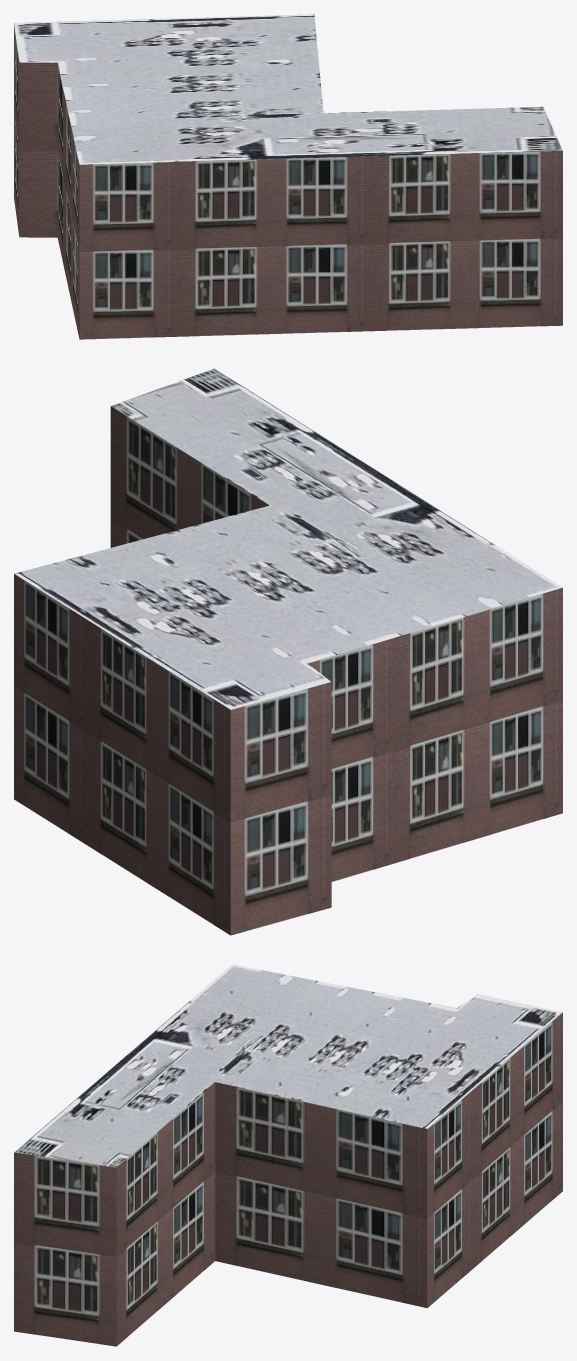
Rendered from ResTex__646.fbx.
3 renders of one model, top to bottom at view 1: azimuth 30°, elevation 25°; view 2: azimuth 150°, elevation 25°; view 3: azimuth 270°, elevation 25°, orthographic. The views are drawn at different scales.
Parts seen in each view (by area): view 1: CityEngineMaterial_12_m, CityEngineMaterial_8_m; view 2: CityEngineMaterial_12_m, CityEngineMaterial_8_m; view 3: CityEngineMaterial_12_m, CityEngineMaterial_8_m.
Part boxes in pixels (x1=…): CityEngineMaterial_12_m: x1=14, y1=24, x2=562, y2=339; CityEngineMaterial_8_m: x1=14, y1=14, x2=562, y2=164; CityEngineMaterial_12_m: x1=14, y1=406, x2=562, y2=935; CityEngineMaterial_8_m: x1=14, y1=368, x2=562, y2=709; CityEngineMaterial_12_m: x1=14, y1=1012, x2=562, y2=1346; CityEngineMaterial_8_m: x1=14, y1=964, x2=562, y2=1167.
Size of the model in its own units: 14.61 by 6 by 16.67.
Materials: 2 (2 with a texture image).
